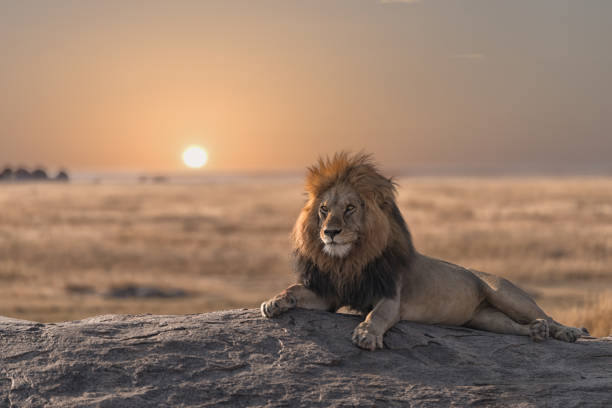lion: (265, 144, 420, 304)
